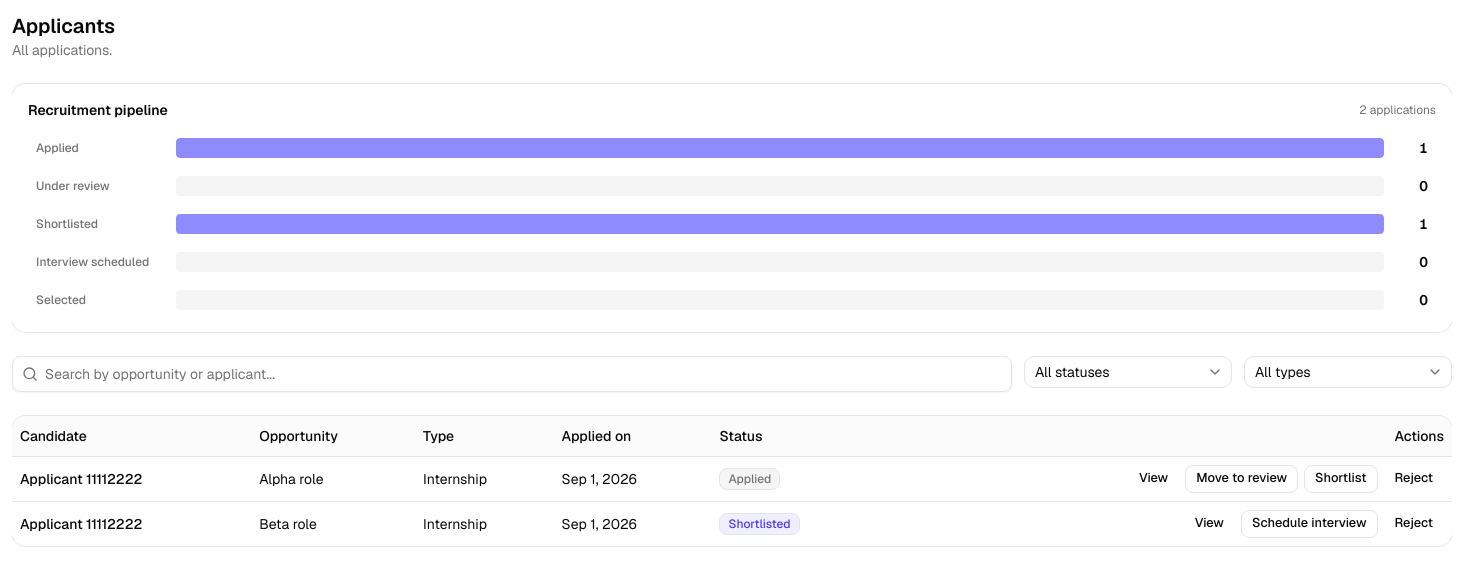
Test: RecruitmentApplications › filters the table when a funnel stage is clicked
This screenshot has width=1464, height=564.
expect the table is shown: met, box [12,416,1452,546]
Click the button "Shortlisted 1" at (732, 224), box [28,208,1436,240]
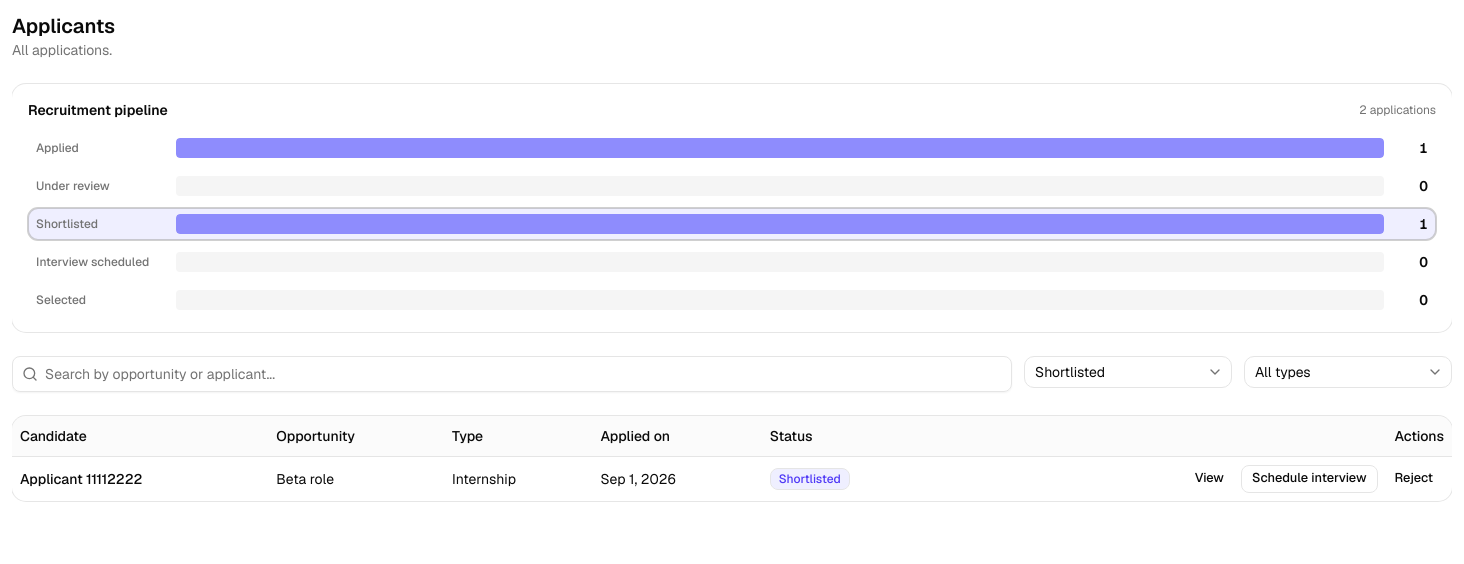
expect the text "Beta role" is shown: met, box [268,456,444,500]
expect the text "Alpha role" is gone: met
